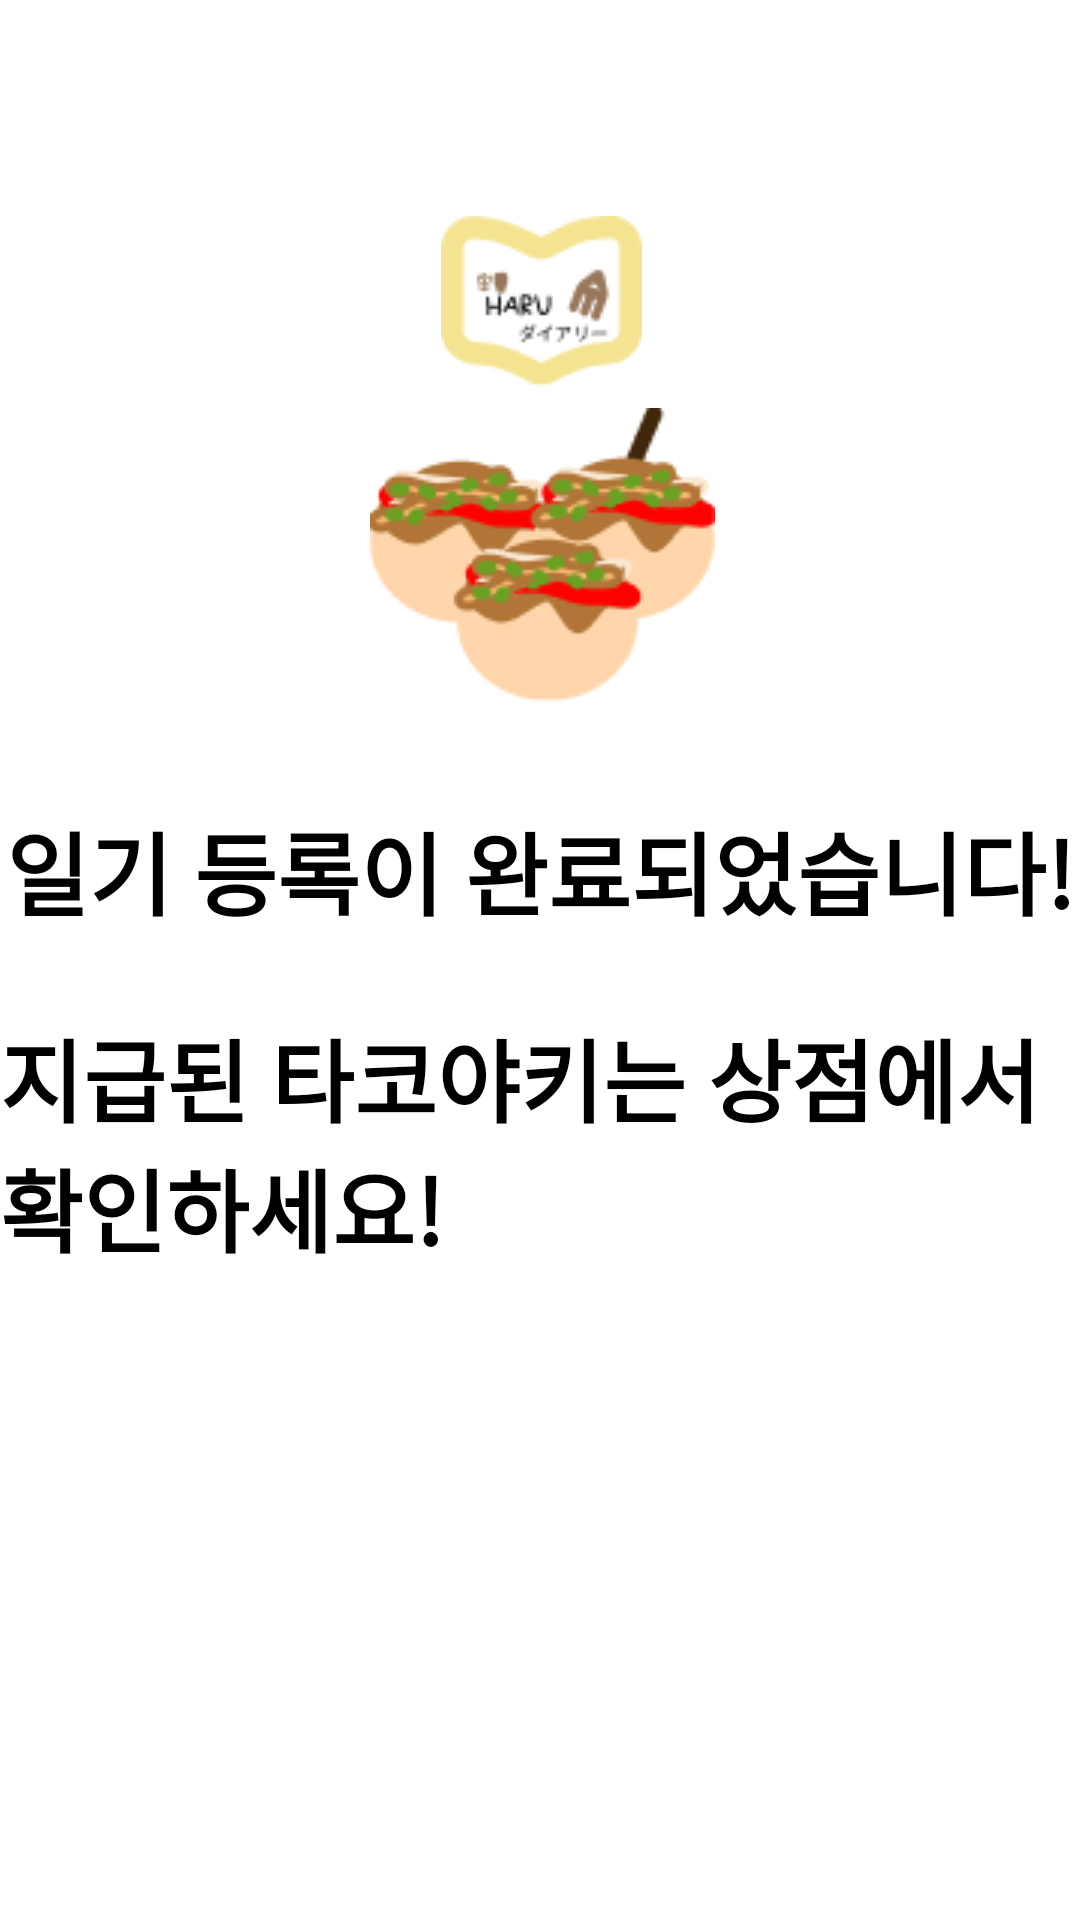

Named icons in this screenshot (1080px×1920px) and their centers, [x,y]:
diary end taco: [542,554]
